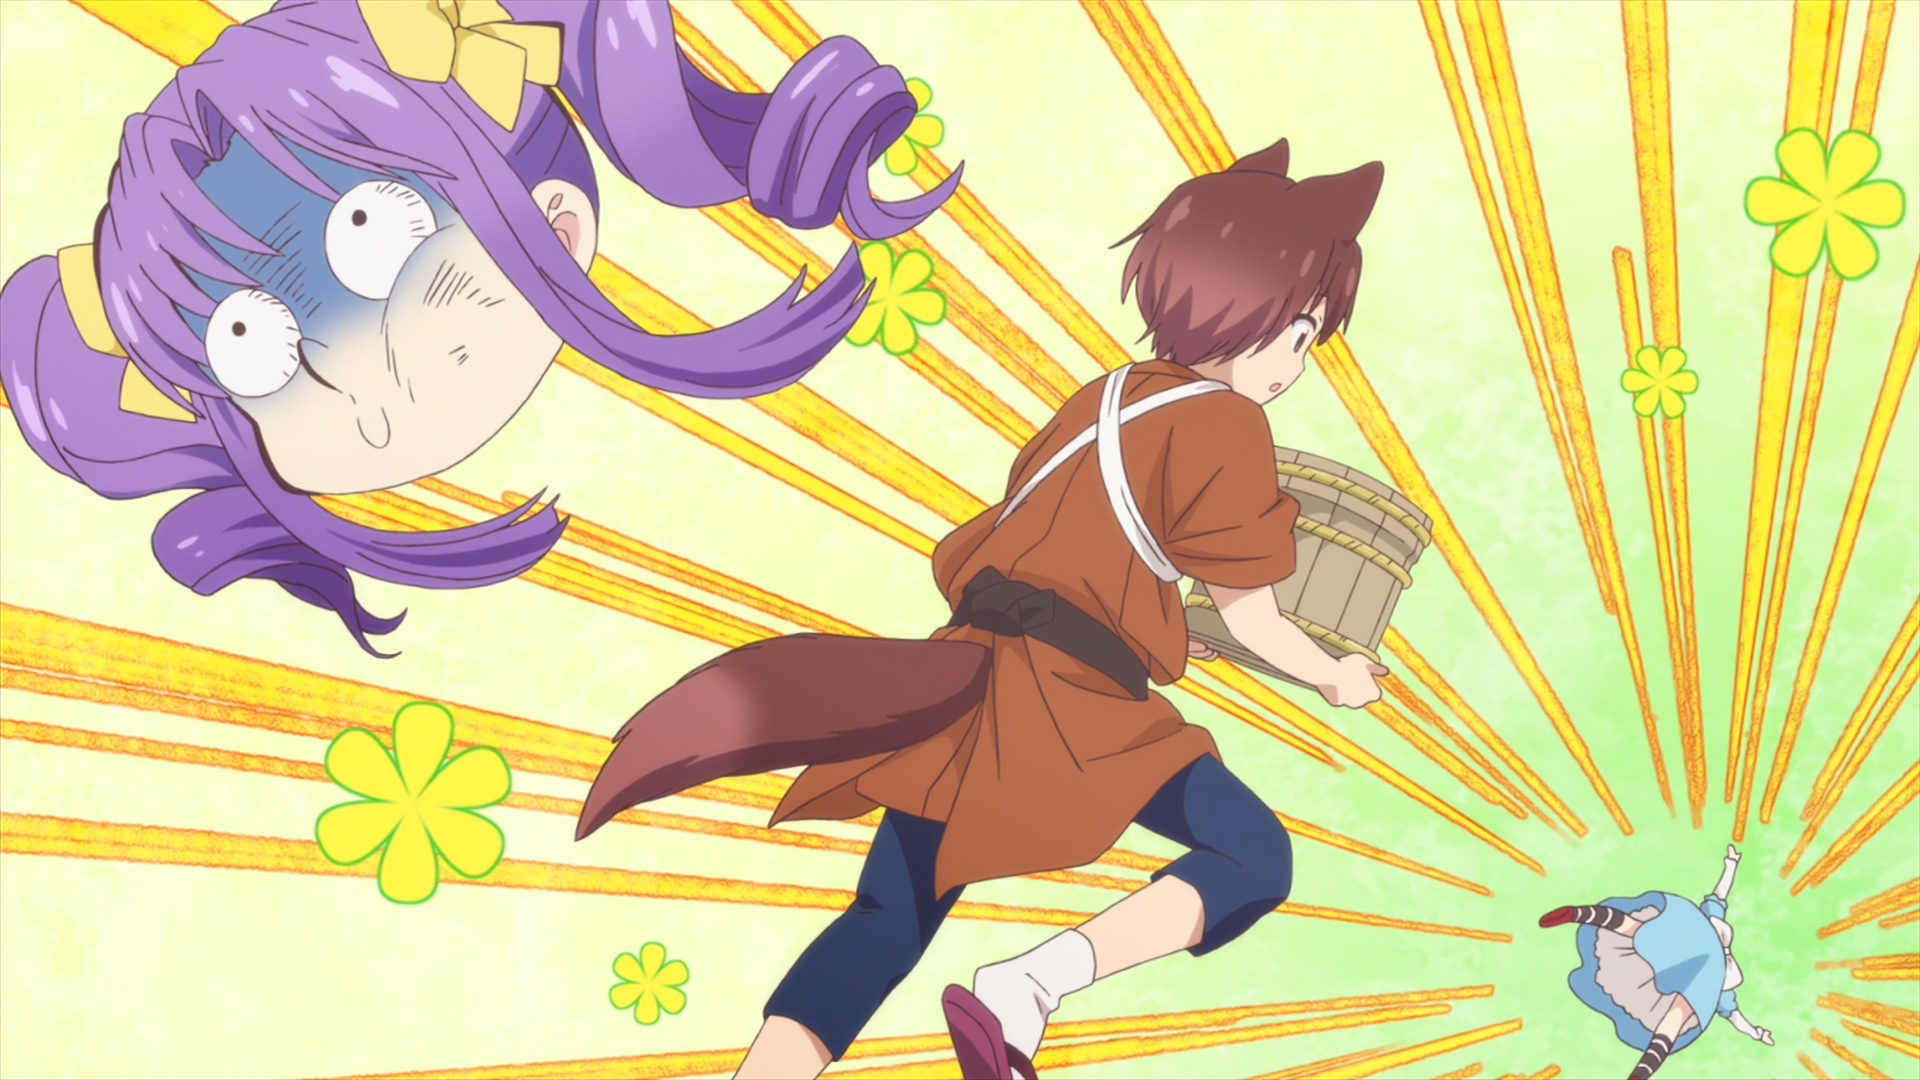枣: (574, 138, 1390, 1080)
阿菊: (1, 1, 963, 658), (1539, 845, 1776, 1080)
